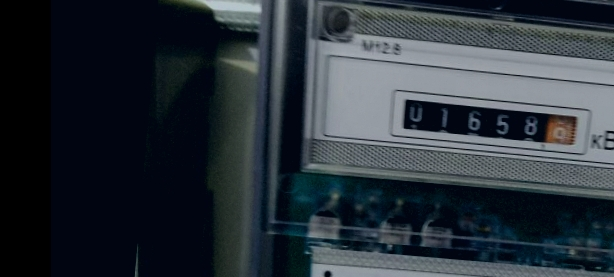0: (407, 100, 425, 122)
1: (436, 103, 452, 128)
5: (494, 110, 512, 136)
6: (465, 107, 485, 132)
8: (522, 113, 541, 136)
9: (550, 123, 568, 145)
screen: (386, 84, 596, 159)
